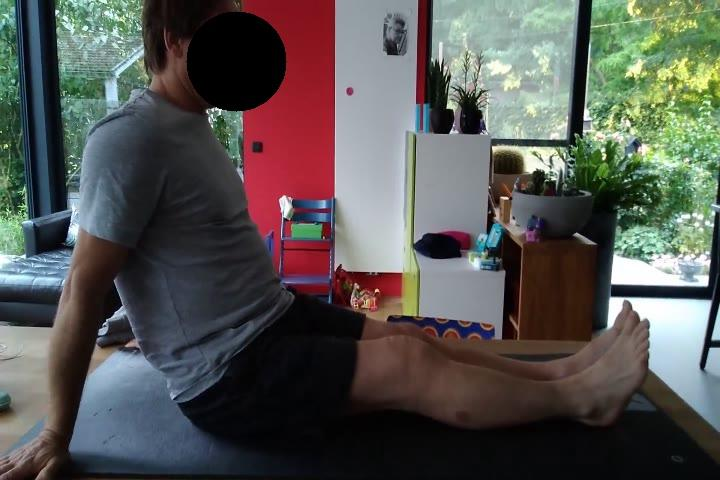lower_body: (183, 294, 654, 440)
